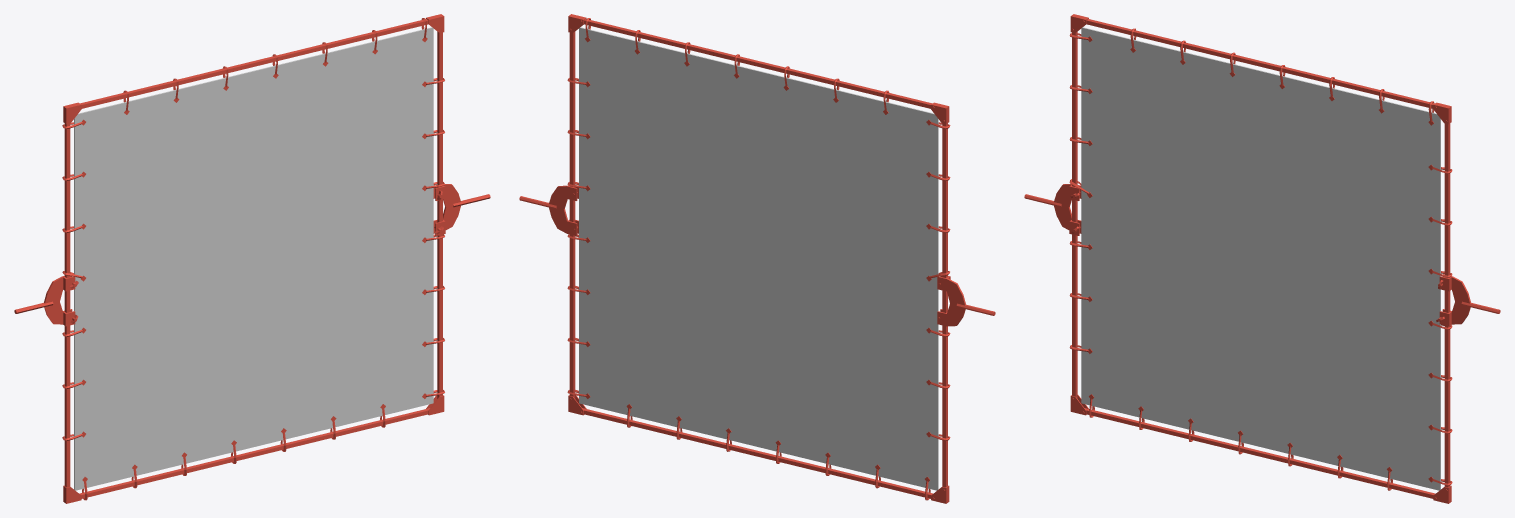
File: SM_Ligh_Diffusion_Frame_Diffuser.fbx
The picture shows the model from 3 angles, left to right: view 1: azimuth 30°, elevation 25°; view 2: azimuth 150°, elevation 25°; view 3: azimuth 330°, elevation 25°; orthographic projection.
Visible parts, largest first — view 1: SM_Ligh_Diffusion_Frame_Diffuser; view 2: SM_Ligh_Diffusion_Frame_Diffuser; view 3: SM_Ligh_Diffusion_Frame_Diffuser.
Boxes of the visible parts, box(x1,y1,x2,y2) form: SM_Ligh_Diffusion_Frame_Diffuser: box(14, 14, 490, 503); SM_Ligh_Diffusion_Frame_Diffuser: box(519, 14, 995, 503); SM_Ligh_Diffusion_Frame_Diffuser: box(1024, 14, 1500, 503).
Size of the model in its own units: 7.98 by 315 by 254.
